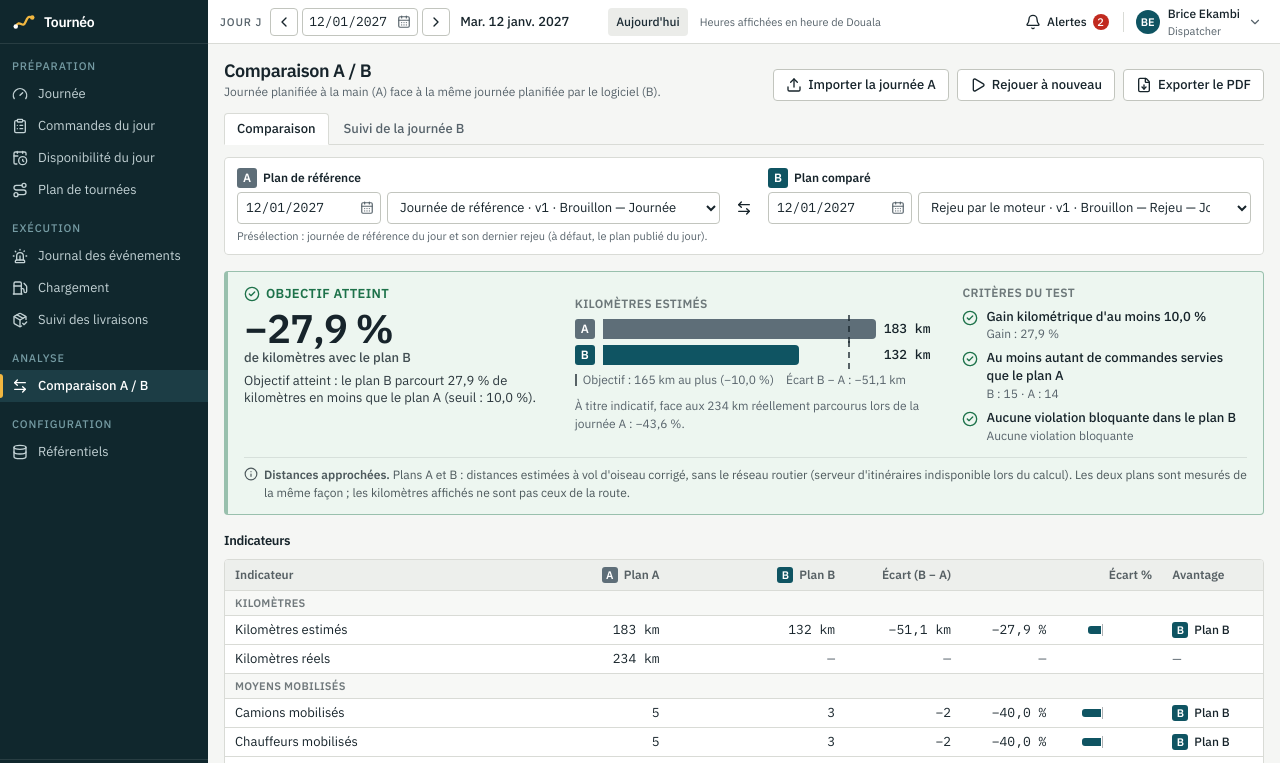
Test case: Comparaison — journée de référence et rejeu (dispatcher) › rejoue la journée de référence, suit la progression et ouvre la comparaison A ↔ rejeu
Later steps or results of the test are not shown.
Check: the element with test id "verdict" is shown, box x1=224 y1=270 x2=1264 y2=515
Click the button "Rejouer à nouveau": (1036, 84) x1=957 y1=68 x2=1115 y2=100
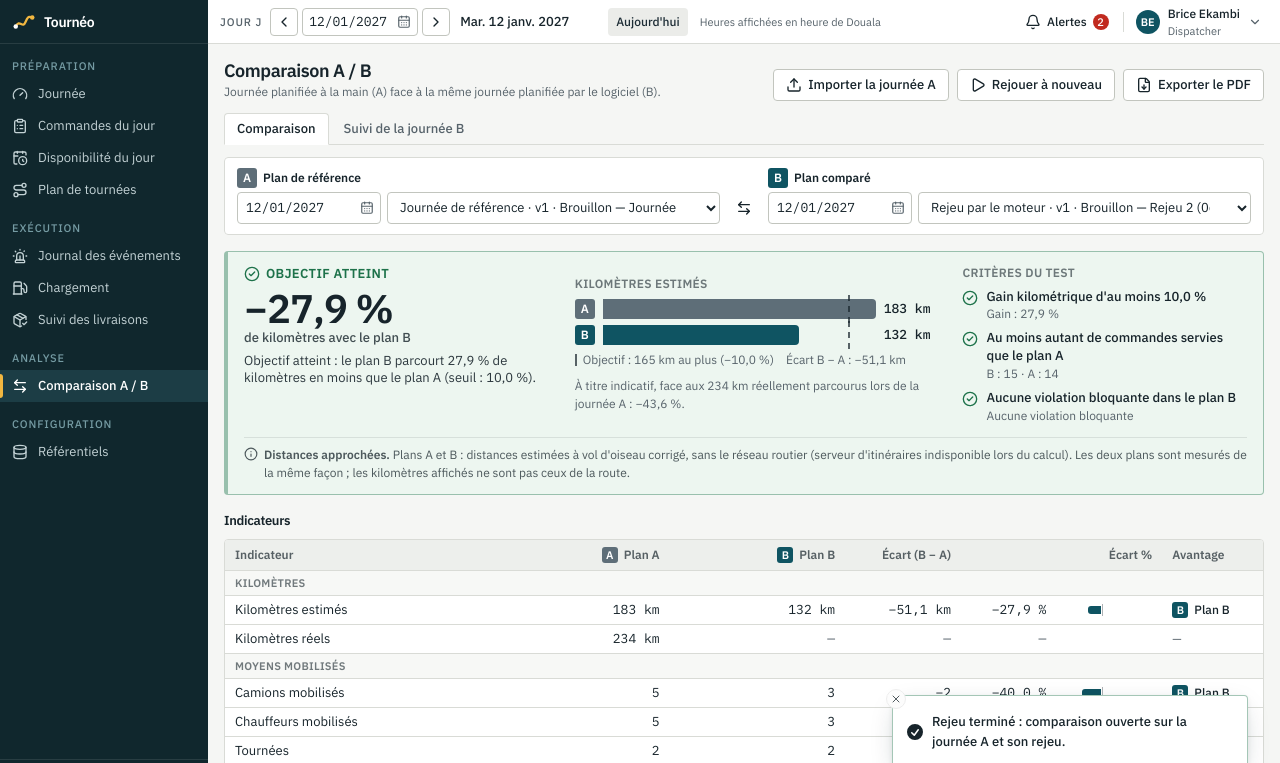
Check: the dropdown named "Plan B" shows "Rejeu par le moteur · v1 · Brouillon — Rejeu 2 (06:10)", box x1=918 y1=192 x2=1251 y2=224
